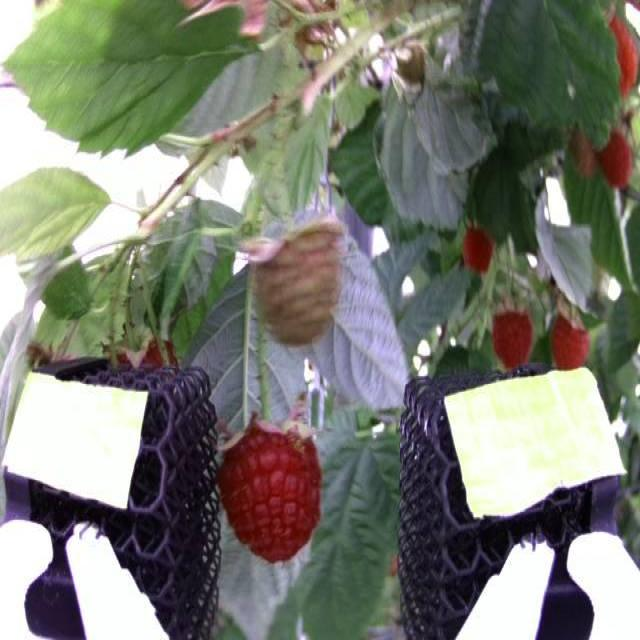Riped berries: (219, 412, 328, 559), (603, 9, 640, 91), (599, 120, 640, 189), (489, 304, 533, 368), (549, 308, 594, 369), (456, 220, 496, 270)
